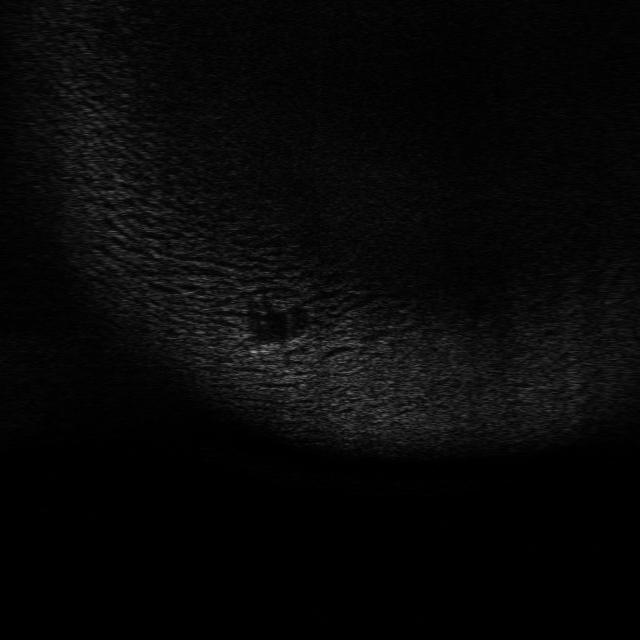plane: (244, 334, 307, 360)
